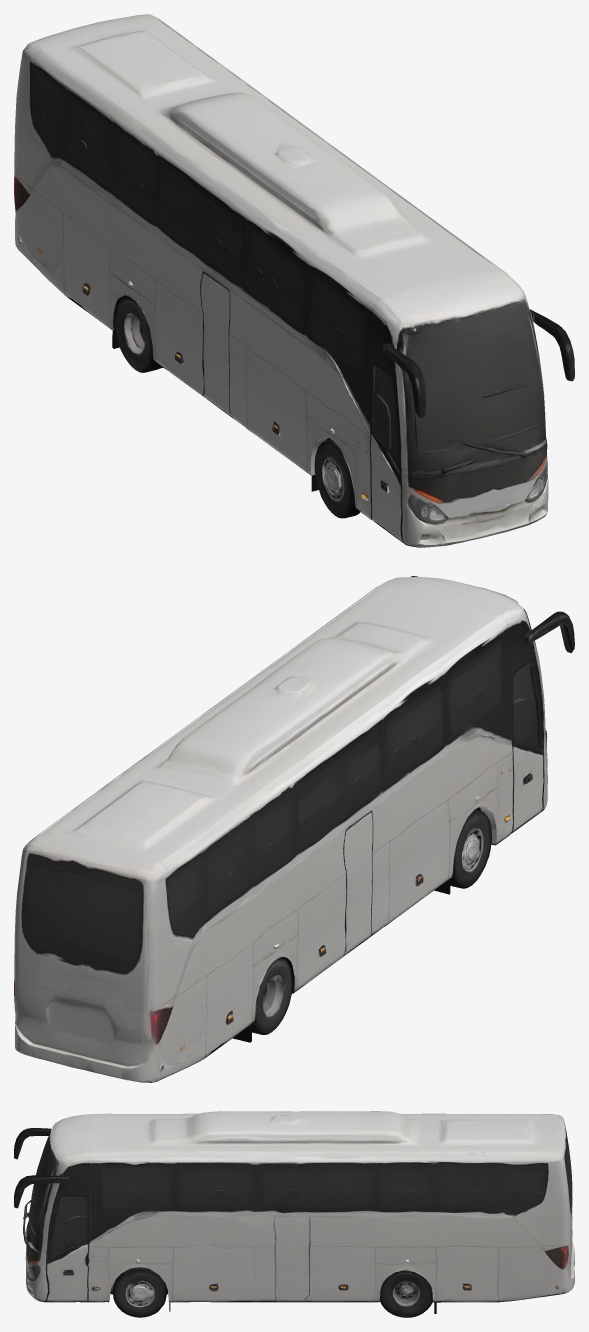
The model's file is onibus_executivo.glb.
3 views of the same model, one above another, from view 1: azimuth 30°, elevation 25°; view 2: azimuth 150°, elevation 25°; view 3: azimuth 270°, elevation 25° (orthographic). The views are drawn at different scales.
Parts seen in each view (by area): view 1: tripo_node_2cf53162-a300-4b12-a406-415d0d431f74; view 2: tripo_node_2cf53162-a300-4b12-a406-415d0d431f74; view 3: tripo_node_2cf53162-a300-4b12-a406-415d0d431f74.
Boxes of the visible parts, x1,y1,x2,y2 form: tripo_node_2cf53162-a300-4b12-a406-415d0d431f74: [14, 14, 574, 547]; tripo_node_2cf53162-a300-4b12-a406-415d0d431f74: [14, 576, 574, 1082]; tripo_node_2cf53162-a300-4b12-a406-415d0d431f74: [14, 1111, 574, 1317].
Bounding box in the file's own units: 2.6 × 4.18 × 12.
1 material, 1 textured.
